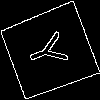Y: (24, 26, 78, 74)
